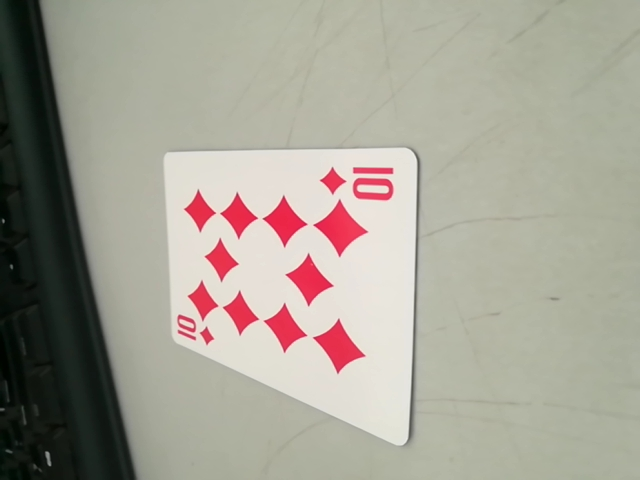fk 10: (321, 159, 404, 204), (169, 314, 220, 353)
